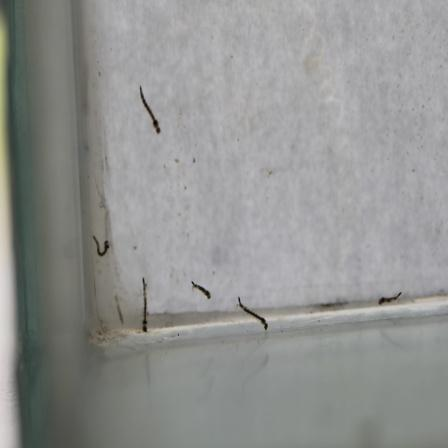Jentik-Nyamuk: (234, 292, 271, 335), (136, 83, 164, 137), (137, 271, 154, 337), (186, 274, 216, 302), (88, 228, 113, 261), (373, 288, 404, 308)
